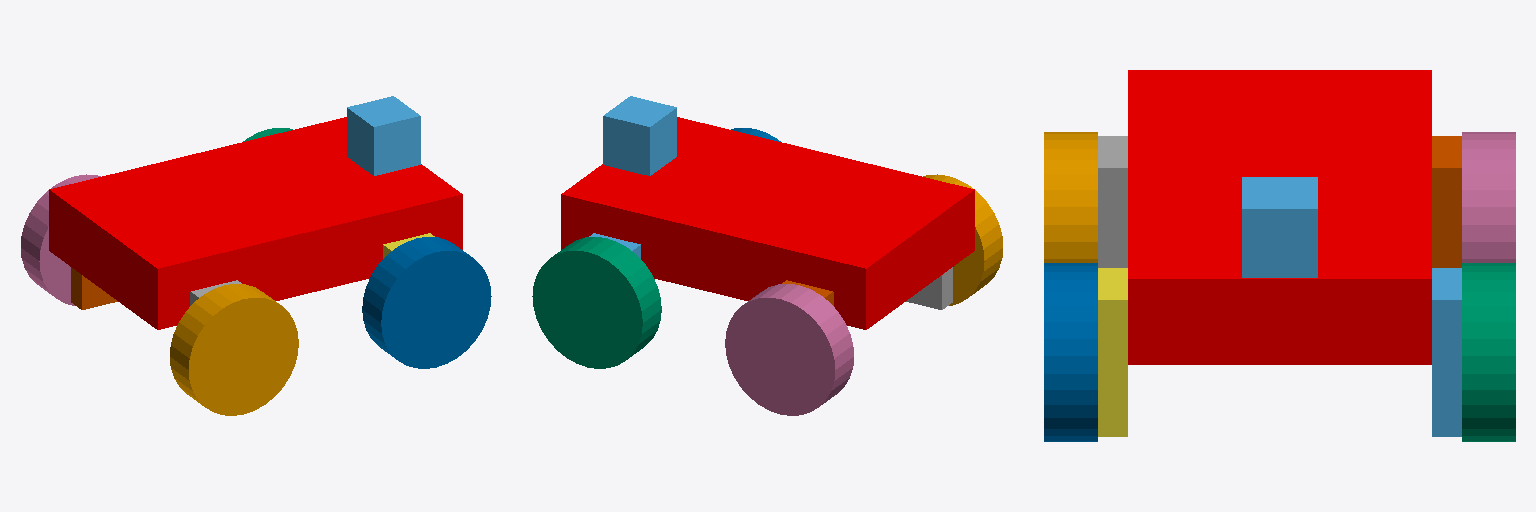
URDF robot description (avular_origin_v10):
<?xml version='1.0'?>

<robot name="avular_origin_v10">

    <material name="red">
        <color rgba="1 0 0 1"/>
    </material>

    <!-- Main Body -->
    <link name='main_body'>
        <inertial>
            <mass value="21.0"/>
            <inertia ixx="0.4" ixy="0.0" ixz="0.0" iyy="0.77" iyz="0.0" izz="1.01"/>
        </inertial>
        <collision name='main_body_collision'>
            <origin xyz="0 0 0.3175" rpy="0 0 0.0"/>
            <geometry>
                <box size=".65 .4 .125"/>
            </geometry>
        </collision>
        <visual name='main_body_visual'>
            <origin xyz="0 0 0.3175" rpy="0 0 0.0"/>
            <geometry>
                <box size=".65 .4 .125"/>
            </geometry>
            <material name="red"/>
        </visual>
    </link>


    <!-- Main Body to Left Front Passive Arm -->
    <joint type="fixed" name="main_body_left_front_passive_arm_joint_fixed">
        <origin xyz="0.205 0.2 0.3175" rpy="0 0 0"/>
        <parent link="main_body"/>
        <child link="left_front_passive_arm_fixed_v1"/>
    </joint>


    <!-- Left Front Passive Arm -->
    <link name="left_front_passive_arm_fixed_v1">
        <inertial>
            <mass value="1.0"/>
            <inertia ixx="0.001" ixy="0.0" ixz="0.0" iyy="0.001" iyz="0.0" izz="0.001"/>
        </inertial>
        <collision name="left_front_passive_arm_fixed_v1_collision">
            <origin xyz="0.0 0.02 -0.1" rpy="0 0 0"/>
            <geometry>
                <box size="0.1 0.04 0.2"/>
            </geometry>
        </collision>
        <visual name="left_front_passive_arm_fixed_v1_visual">
            <origin xyz="0.0 0.02 -0.1" rpy="0 0 0"/>
            <geometry>
                <box size="0.1 0.04 0.2"/>
            </geometry>
        </visual>
    </link>


    <!-- Left Front Passive Arm to Left Front Wheel -->
    <joint type="continuous" name="left_front_passive_arm_left_front_wheel_joint_fixed">
        <origin xyz="0 0.04 -0.1" rpy="-1.5707 0 0"/>
        <parent link="left_front_passive_arm_fixed_v1"/>
        <child link="left_front_wheel"/>
        <axis xyz="0 1 0"/>
        <dynamics damping="0.1" stiffness="0.5"/>
        <limit effort="100000.0" velocity="10"/>
    </joint>


    <link name="left_front_wheel">
        <inertial>
            <mass value="1"/>
            <inertia ixx="0.01" ixy="0.0" ixz="0.0" iyy="0.01" iyz="0.0" izz="0.01"/>
        </inertial>
        <collision name="left_front_wheel_collision">
            <origin xyz="0.0 0.0 0.035" rpy="0 0 0"/>
            <geometry>
                <cylinder length=".07" radius=".1175"/>
            </geometry>
        </collision>
        <visual name="left_front_wheel_visual">
            <origin xyz="0.0 0.0 0.035" rpy="0.0 0.0 0.0"/>
            <geometry>
                <cylinder length=".07" radius=".1175"/>
            </geometry>
        </visual>
    </link>



    <!-- Main Body to Right Front Passive Arm -->
    <joint type="fixed" name="main_body_right_front_passive_arm_joint_fixed">
        <origin xyz="0.205 -0.2 0.3175" rpy="0 0 0"/>
        <parent link="main_body"/>
        <child link="right_front_passive_arm_fixed_v1"/>
    </joint>


    <!-- Right Front Passive Arm -->
    <link name="right_front_passive_arm_fixed_v1">
        <inertial>
            <mass value="1.0"/>
            <inertia ixx="0.001" ixy="0.0" ixz="0.0" iyy="0.001" iyz="0.0" izz="0.001"/>
        </inertial>
        <collision name="right_front_passive_arm_fixed_v1_collision">
            <origin xyz="0.0 -0.02 -0.1" rpy="0 0 0"/>
            <geometry>
                <box size="0.1 0.04 0.2"/>
            </geometry>
        </collision>
        <visual name="right_front_passive_arm_fixed_v1_visual">
            <origin xyz="0.0 -0.02 -0.1" rpy="0 0 0"/>
            <geometry>
                <box size="0.1 0.04 0.2"/>
            </geometry>
        </visual>
    </link>


    <!-- Right Front Passive Arm to Right Front Wheel -->
    <joint type="continuous" name="right_front_passive_arm_right_front_wheel_joint_fixed">
        <origin xyz="0 -0.04 -0.1" rpy="-1.5707 0 0"/>
        <parent link="right_front_passive_arm_fixed_v1"/>
        <child link="right_front_wheel"/>
        <axis xyz="0 1 0"/>
        <dynamics damping="0.1" stiffness="0.5"/>
        <limit effort="100000.0" velocity="10"/>
    </joint>


    <link name="right_front_wheel">
        <inertial>
            <mass value="1"/>
            <inertia ixx="0.01" ixy="0.0" ixz="0.0" iyy="0.01" iyz="0.0" izz="0.01"/>
        </inertial>
        <collision name="right_front_wheel_collision">
            <origin xyz="0.0 0.0 -0.035" rpy="0 0 0"/>
            <geometry>
                <cylinder length=".07" radius=".1175"/>
            </geometry>
        </collision>
        <visual name="right_front_wheel_visual">
            <origin xyz="0.0 0.0 -0.035" rpy="0 0 0"/>
            <geometry>
                <cylinder length=".07" radius=".1175"/>
            </geometry>
        </visual>
    </link>


    <!-- Main Body to Left Rear Passive Arm -->
    <joint type="fixed" name="main_body_left_rear_passive_arm_joint_fixed">
        <origin xyz="-0.205 0.2 0.3175" rpy="0 0 0"/>
        <parent link="main_body"/>
        <child link="left_rear_passive_arm_fixed_v1"/>
    </joint>


    <!-- Left Rear Passive Arm -->
    <link name="left_rear_passive_arm_fixed_v1">
        <inertial>
            <mass value="1.0"/>
            <inertia ixx="0.001" ixy="0.0" ixz="0.0" iyy="0.001" iyz="0.0" izz="0.001"/>
        </inertial>
        <collision name="left_rear_passive_arm_fixed_v1_collision">
            <origin xyz="0.0 0.02 -0.1" rpy="0 0 0"/>
            <geometry>
                <box size="0.1 0.04 0.2"/>
            </geometry>
        </collision>
        <visual name="left_rear_passive_arm_fixed_v1_visual">
            <origin xyz="0.0 0.02 -0.1" rpy="0 0 0"/>
            <geometry>
                <box size="0.1 0.04 0.2"/>
            </geometry>
        </visual>
    </link>


    <!-- Left Rear Passive Arm to Left Rear Wheel -->
    <joint type="continuous" name="left_rear_passive_arm_left_rear_wheel_joint_fixed">
        <origin xyz="0 0.04 -0.1" rpy="-1.5707 0 0"/>
        <parent link="left_rear_passive_arm_fixed_v1"/>
        <child link="left_rear_wheel"/>
        <axis xyz="0 1 0"/>
        <dynamics damping="0.1" stiffness="0.5"/>
        <limit effort="100000.0" velocity="10"/>
    </joint>


    <link name="left_rear_wheel">
        <inertial>
            <mass value="1"/>
            <inertia ixx="0.01" ixy="0.0" ixz="0.0" iyy="0.01" iyz="0.0" izz="0.01"/>
        </inertial>
            <collision name="left_rear_wheel_collision">
            <origin xyz="0.0 0.0 0.035" rpy="0 0 0"/>
            <geometry>
                <cylinder length=".07" radius=".1175"/>
            </geometry>
        </collision>
        <visual name="left_rear_wheel_visual">
            <origin xyz="0.0 0.0 0.035" rpy="0 0 0"/>
            <geometry>
                <cylinder length=".07" radius=".1175"/>
            </geometry>
        </visual>
    </link>


    <!-- Main Body to Right Rear Passive Arm -->
    <joint type="fixed" name="main_body_right_rear_passive_arm_joint_fixed">
        <origin xyz="-0.205 -0.2 0.3175" rpy="0 0 0"/>
        <parent link="main_body"/>
        <child link="right_rear_passive_arm_fixed_v1"/>
    </joint>

    <!-- Right Rear Passive Arm -->
    <link name="right_rear_passive_arm_fixed_v1">
        <inertial>
            <mass value="1.0"/>
            <inertia ixx="0.001" ixy="0.0" ixz="0.0" iyy="0.001" iyz="0.0" izz="0.001"/>
        </inertial>
        <collision name="right_rear_passive_arm_fixed_v1_collision">
            <origin xyz="0.0 -0.02 -0.1" rpy="0 0 0"/>
            <geometry>
                <box size="0.1 0.04 0.2"/>
            </geometry>
        </collision>
        <visual name="right_rear_passive_arm_fixed_v1_visual">
            <origin xyz="0.0 -0.02 -0.1" rpy="0 0 0"/>
            <geometry>
                <box size="0.1 0.04 0.2"/>
            </geometry>
        </visual>
    </link>


    <!-- Right Rear Passive Arm to Right Rear Wheel -->
    <joint type="continuous" name="right_rear_passive_arm_right_rear_wheel_joint_fixed">
        <origin xyz="0 -0.04 -0.1" rpy="-1.5707 0 0"/>
        <parent link="right_rear_passive_arm_fixed_v1"/>
        <child link="right_rear_wheel"/>
        <axis xyz="0 1 0"/>
        <dynamics damping="0.1" stiffness="0.5"/>
        <limit effort="100000.0" velocity="10"/>
    </joint>


    <link name="right_rear_wheel">
        <inertial>
            <mass value="1"/>
            <inertia ixx="0.01" ixy="0.0" ixz="0.0" iyy="0.01" iyz="0.0" izz="0.01"/>
        </inertial>
        <collision name="right_rear_wheel_collision">
            <origin xyz="0.0 0.0 -0.035" rpy="0 0 0"/>
            <geometry>
                <cylinder length=".07" radius=".1175"/>
            </geometry>
        </collision>
        <visual name="right_rear_wheel_visual">
            <origin xyz="0.0 0.0 -0.035" rpy="0 0 0"/>
            <geometry>
                <cylinder length=".07" radius=".1175"/>
            </geometry>
        </visual>
    </link>



    <joint type="fixed" name="ouster_platform_joint">
        <origin xyz="0.272 0 0.38" rpy="0 0 0"/>
        <child link="ouster_base" />
        <parent link="main_body"/>
    </joint>


    <link name="ouster_base">
        <inertial>
            <mass value="1"/>
            <inertia ixx="0.001" ixy="0.0" ixz="0.0" iyy="0.001" iyz="0.0" izz="0.001"/>
        </inertial>
        <visual name="ouster_base">
            <origin xyz="0.0 0.0 0.05" rpy="0.0 0.0 0.0"/>
            <geometry>
                <box size="0.1 0.1 0.1"/>
            </geometry>
        </visual>
        <collision name="ouster_base">
            <origin xyz="0.0 0.0 0.05" rpy="0.0 0.0 0.0"/>
            <geometry>
                <box size="0.1 0.1 0.1"/>
            </geometry>
        </collision>
    </link>


    <joint type="fixed" name="lidar_joint_gazebo">
        <origin xyz="0 0 0.035" rpy="0 0 0"/>
        <child link="lidar_link_gazebo" />
        <parent link="ouster_base"/>
    </joint>


    <link name="lidar_link_gazebo">
        <inertial>
            <mass value="0.1"/>
            <inertia ixx="0.001" ixy="0.0" ixz="0.0" iyy="0.001" iyz="0.0" izz="0.001"/>
        </inertial>
        <collision name="lidar_link_gazebo">
            <origin xyz="0 0 0.0" rpy="0 0 0"/>
            <geometry>
                <cylinder length="0.07" radius="0.04"/>
            </geometry>
        </collision>
    </link>

    <joint type="fixed" name="realsense_joint">
        <origin xyz="0.32 0.03 0.3175" rpy="0 0 0"/>
        <child link="camera_link"/>
        <parent link="main_body"/>
    </joint>


    <link name="camera_link">
        <inertial>
            <mass value="0.035"/>
            <inertia ixx="0.001" ixy="0" ixz="0.0" iyy="0.001" iyz="0.0" izz="0.001"/>
        </inertial>
        <collision name="camera_link">
            <origin xyz="0 0.047 0" rpy="0 0 0"/>
            <geometry>
                <box size="0.008 0.13 0.022"/>
            </geometry>
        </collision>
    </link>
 
</robot>

--- Facts derived from the render (not from the file) ---
3 views of the same robot in one strip: view 1: azimuth 30°, elevation 25°; view 2: azimuth 150°, elevation 25°; view 3: azimuth 270°, elevation 25° (orthographic).
Model avular_origin_v10 with 12 links and 11 joints (4 continuous, 7 fixed), rooted at main_body, posed all joints at 0.
Visible links, largest first — view 1: main_body, right_rear_wheel, right_front_wheel, ouster_base, left_rear_wheel, left_rear_passive_arm_fixed_v1; view 2: main_body, left_rear_wheel, left_front_wheel, ouster_base, right_rear_wheel, right_rear_passive_arm_fixed_v1; view 3: main_body, left_front_wheel, right_front_wheel, ouster_base, left_rear_wheel, right_rear_wheel, left_front_passive_arm_fixed_v1, right_front_passive_arm_fixed_v1, left_rear_passive_arm_fixed_v1, right_rear_passive_arm_fixed_v1.
Link boxes in pixels (x1,y1,x2,y2): main_body: (49,117,462,329); right_rear_wheel: (170,284,298,415); right_front_wheel: (362,237,491,368); ouster_base: (347,96,420,175); left_rear_wheel: (21,174,100,305); left_rear_passive_arm_fixed_v1: (71,267,117,309); main_body: (561,117,974,329); left_rear_wheel: (725,284,853,415); left_front_wheel: (532,237,661,368); ouster_base: (603,96,676,175); right_rear_wheel: (923,174,1002,305); right_rear_passive_arm_fixed_v1: (906,267,952,309); main_body: (1128,70,1431,364); left_front_wheel: (1462,263,1515,441); right_front_wheel: (1044,263,1097,441); ouster_base: (1242,177,1317,277); left_rear_wheel: (1462,132,1515,262); right_rear_wheel: (1044,132,1097,262); left_front_passive_arm_fixed_v1: (1432,268,1461,436); right_front_passive_arm_fixed_v1: (1098,268,1127,436); left_rear_passive_arm_fixed_v1: (1432,136,1461,267); right_rear_passive_arm_fixed_v1: (1098,136,1127,267).
Size in the robot's own frame: 0.65 by 0.62 by 0.38 metres.
Geometry: primitives only (box / cylinder / sphere), no mesh files.